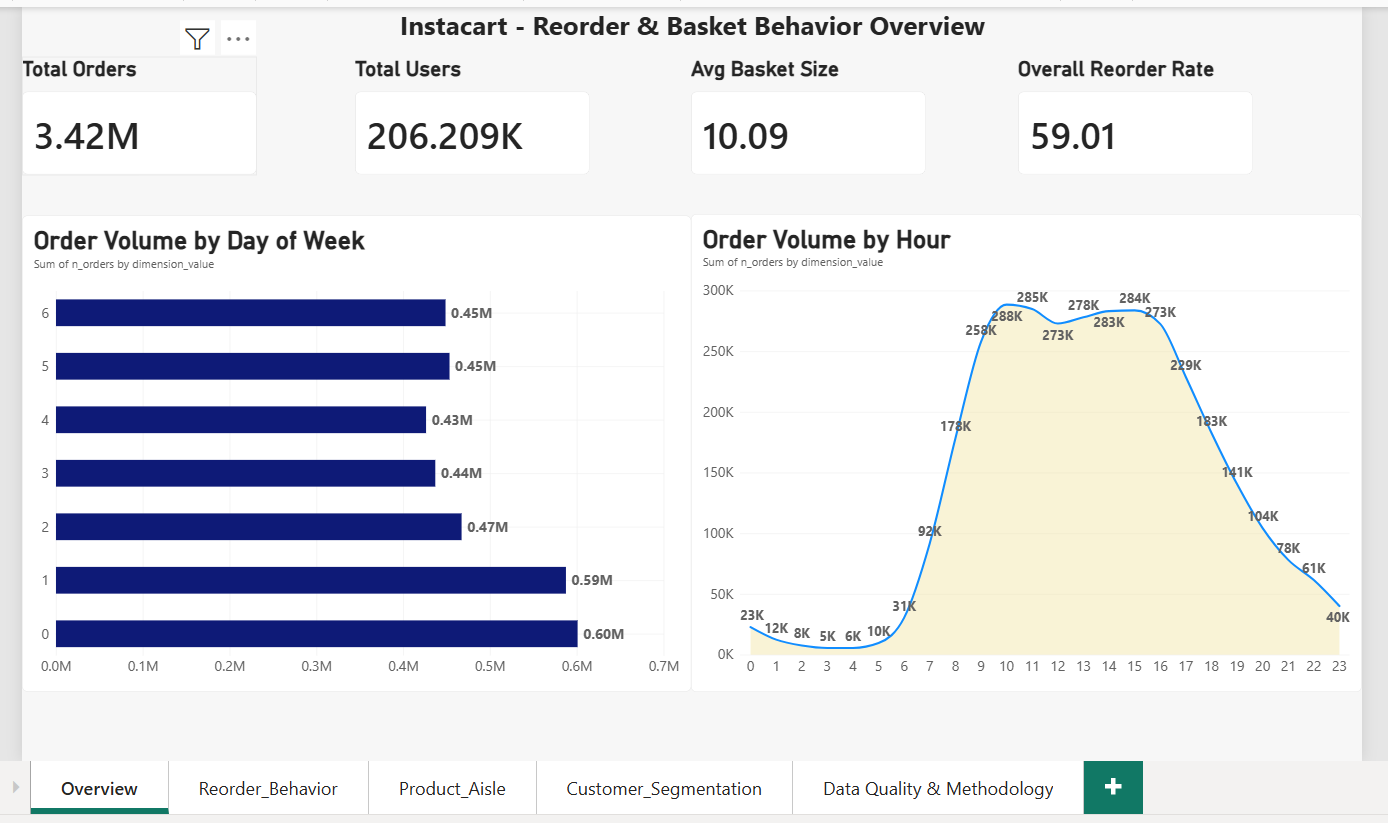

The page's visual inventory and layout, read from the dashboard file:
{"tool":"powerbi","page":{"name":"Overview","canvas":[1920,1080],"ordinal":0},"visuals":[{"type":"textbox","box":[541.6,0,885.2,71.6],"z":0},{"type":"cardVisual","title":"Total Orders","fields":{"Data":["KPI summary.Total Orders"]},"box":[0,71.6,336.4,169.4],"z":1000},{"type":"cardVisual","title":"Total Users","fields":{"Data":["KPI summary.Total Users"]},"box":[477.2,71.6,336,169],"z":2000},{"type":"cardVisual","title":"Avg Basket Size","fields":{"Data":["Sum(mart_overview.avg_basket_size)"]},"box":[959.1,71.6,336,169],"z":3000},{"type":"cardVisual","title":"Overall Reorder Rate","fields":{"Data":["Sum(mart_overview.overall_reorder_rate_pct)"]},"box":[1426.8,71.6,336,169],"z":4000},{"type":"clusteredBarChart","title":"Order Volume by Day of Week","fields":{"Y":["Sum(mart_activity_by_time.n_orders)"],"Category":["mart_activity_by_time.dimension_value"]},"box":[0,298.3,958.4,682.1],"z":5000},{"type":"lineChart","title":"Order Volume by Hour","fields":{"Category":["mart_activity_by_time.dimension_value"],"Y":["Sum(mart_activity_by_time.n_orders)"]},"box":[958.4,295.8,960.8,684.6],"z":6000}]}

Visuals, with their boxes on the page's 1920x1080 design canvas (x1, y1, x2, y2). These are canvas units, not pixel positions in the 1388x823 screenshot, which may show the page scaled, cropped or inside an application window:
textbox: 542/0/1427/72
"Total Orders" cardVisual: 0/72/336/241
"Total Users" cardVisual: 477/72/813/241
"Avg Basket Size" cardVisual: 959/72/1295/241
"Overall Reorder Rate" cardVisual: 1427/72/1763/241
"Order Volume by Day of Week" clusteredBarChart: 0/298/958/980
"Order Volume by Hour" lineChart: 958/296/1919/980
